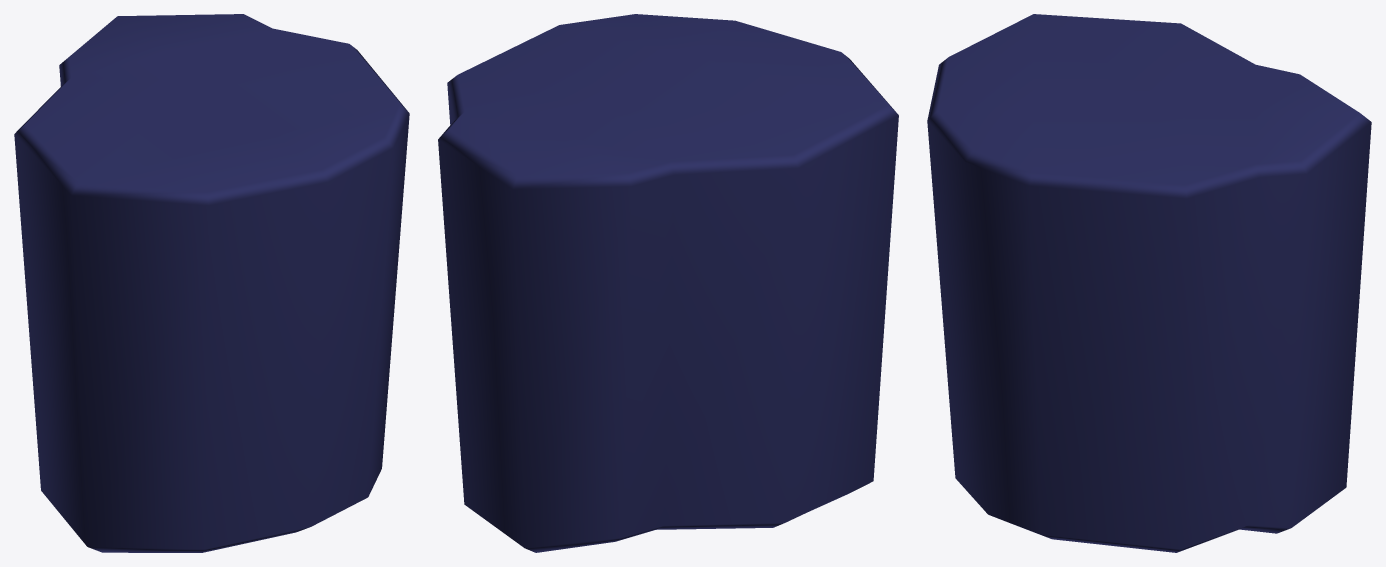
File: platform1.fbx
3 renders of one model, left to right at view 1: azimuth 30°, elevation 25°; view 2: azimuth 150°, elevation 25°; view 3: azimuth 270°, elevation 25°, orthographic. The views are drawn at different scales.
Parts seen in each view (by area): view 1: platform1; view 2: platform1; view 3: platform1.
Part boxes in pixels (x1,y1,x2,y2): platform1: [14, 14, 409, 552]; platform1: [438, 14, 898, 552]; platform1: [927, 14, 1371, 552].
Size of the model in its own units: 419 by 421 by 437.
